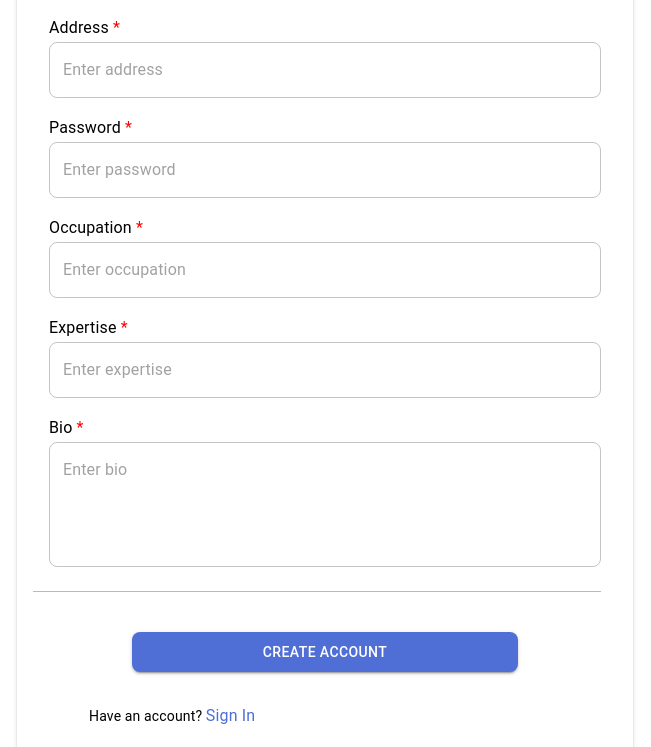
Scenario: CreateAccount Component › shows error message for missing required fields
(page scrolled)
// Simulate submitting the form without filling out any fields
Click the button "Create Account" at (325, 652), box [132,632,518,672]
(page scrolled)
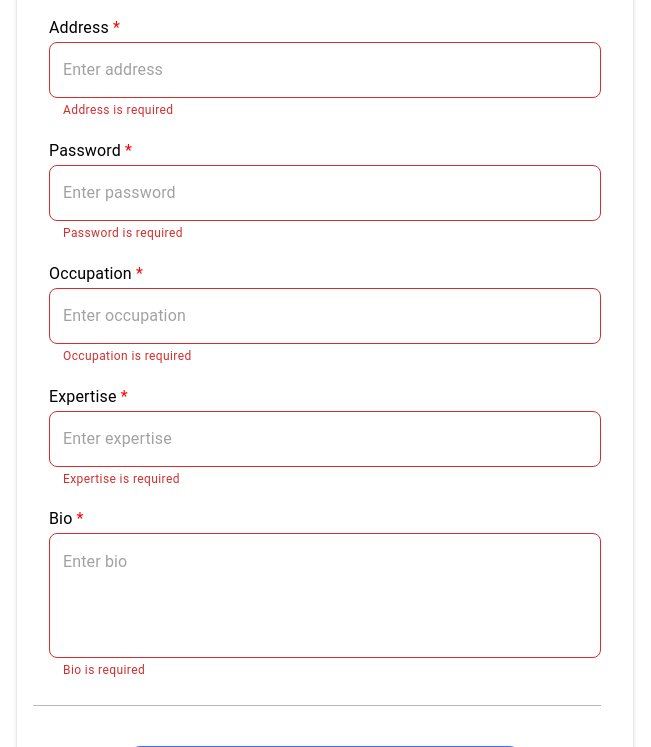
Result: the text "Address is required" is shown at [63,103,174,117]
Result: the text "Password is required" is shown at [63,226,183,240]
Result: the text "Occupation is required" is shown at [63,349,192,363]
